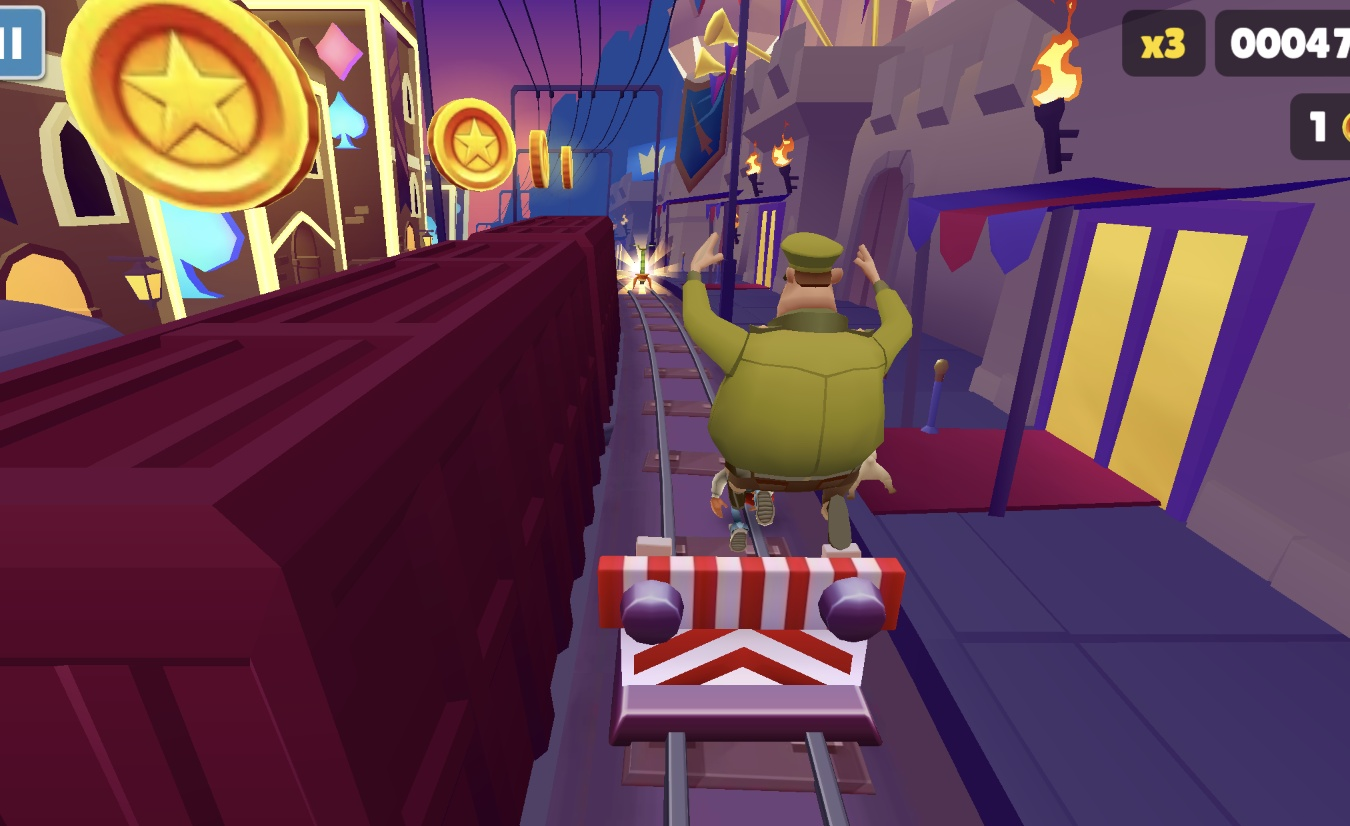ground_barrier: (591, 548, 911, 748)
train: (0, 217, 620, 826)
